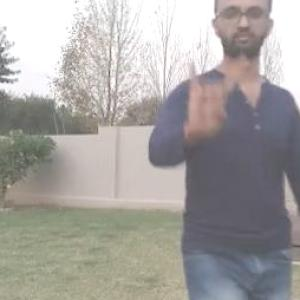takeoff-hand: (178, 48, 253, 143)
